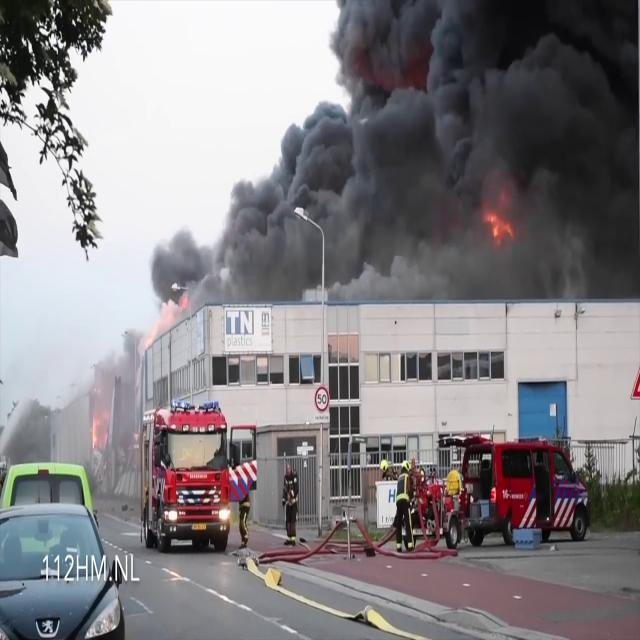Smoke: (318, 1, 636, 320), (140, 148, 316, 349)
